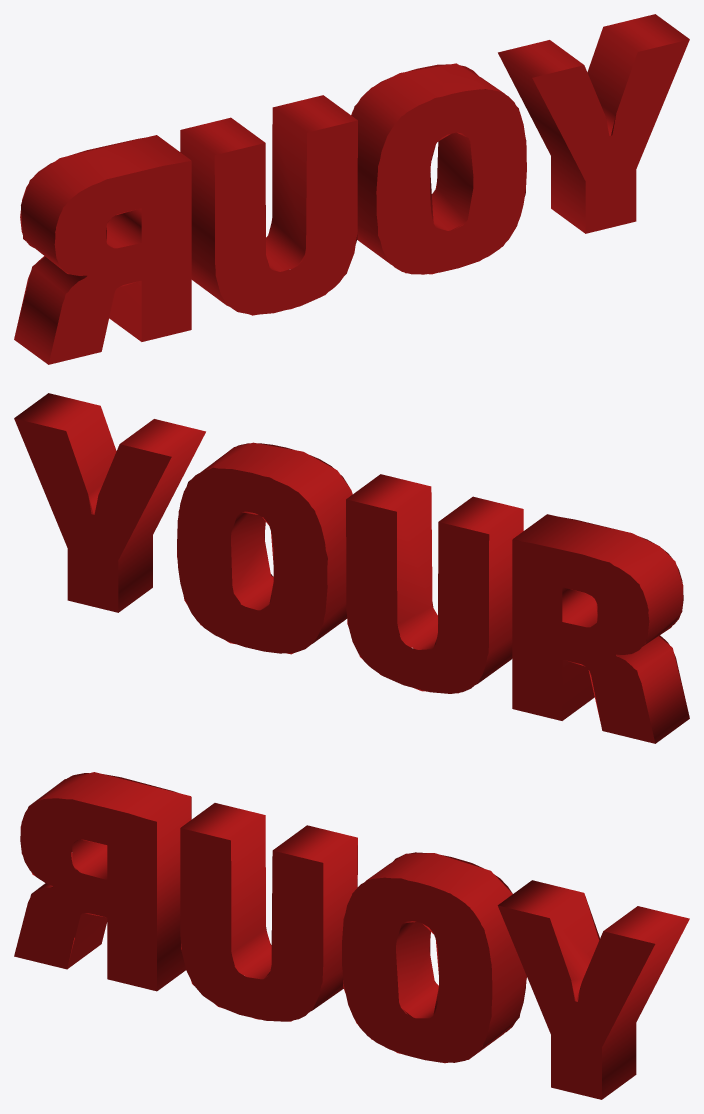
Rendered from your.fbx.
3 renders of one model, top to bottom at view 1: azimuth 30°, elevation 25°; view 2: azimuth 150°, elevation 25°; view 3: azimuth 330°, elevation 25°, orthographic.
Visible parts, largest first — view 1: Text; view 2: Text; view 3: Text.
Part boxes in pixels (<box>): Text: <box>14,14,689,364</box>; Text: <box>14,393,689,743</box>; Text: <box>14,772,689,1099</box>.
Size of the model in its own units: 8.58 by 2.26 by 0.8.
